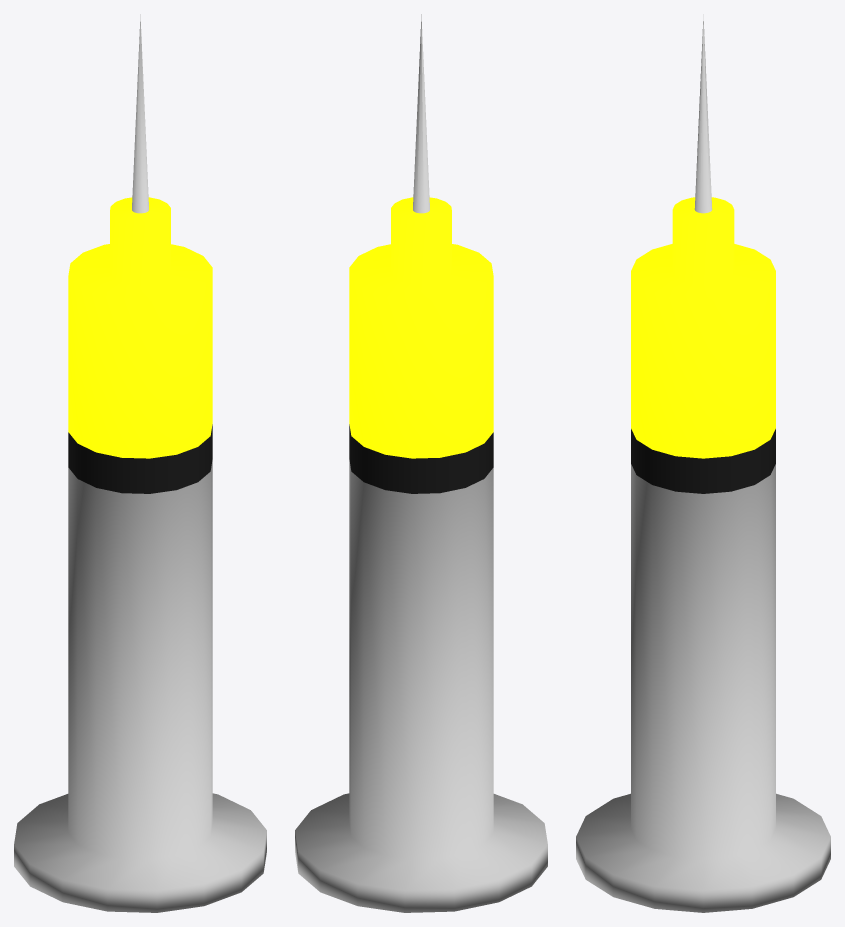
Rendered from syringe.fbx.
3 renders of one model, left to right at view 1: azimuth 30°, elevation 25°; view 2: azimuth 150°, elevation 25°; view 3: azimuth 270°, elevation 25°, orthographic.
Visible parts, largest first — view 1: body; view 2: body; view 3: body.
Boxes of the visible parts, left/top/right/bottom form: body: left=14, top=14, right=266, bottom=912; body: left=295, top=14, right=547, bottom=912; body: left=576, top=14, right=830, bottom=912.
Bounding box in the file's own units: 39.77 × 145 × 39.77.
